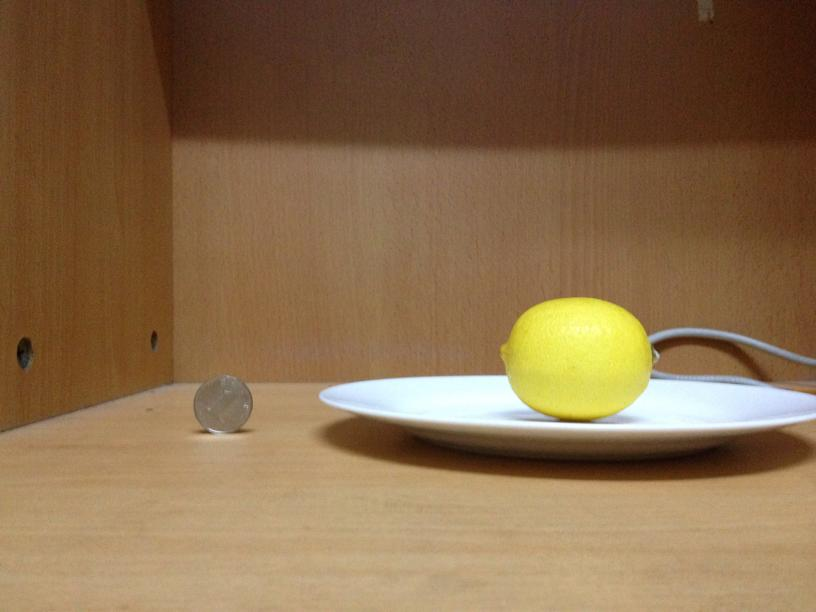coin: (194, 371, 250, 435)
lemon: (498, 295, 657, 420)
